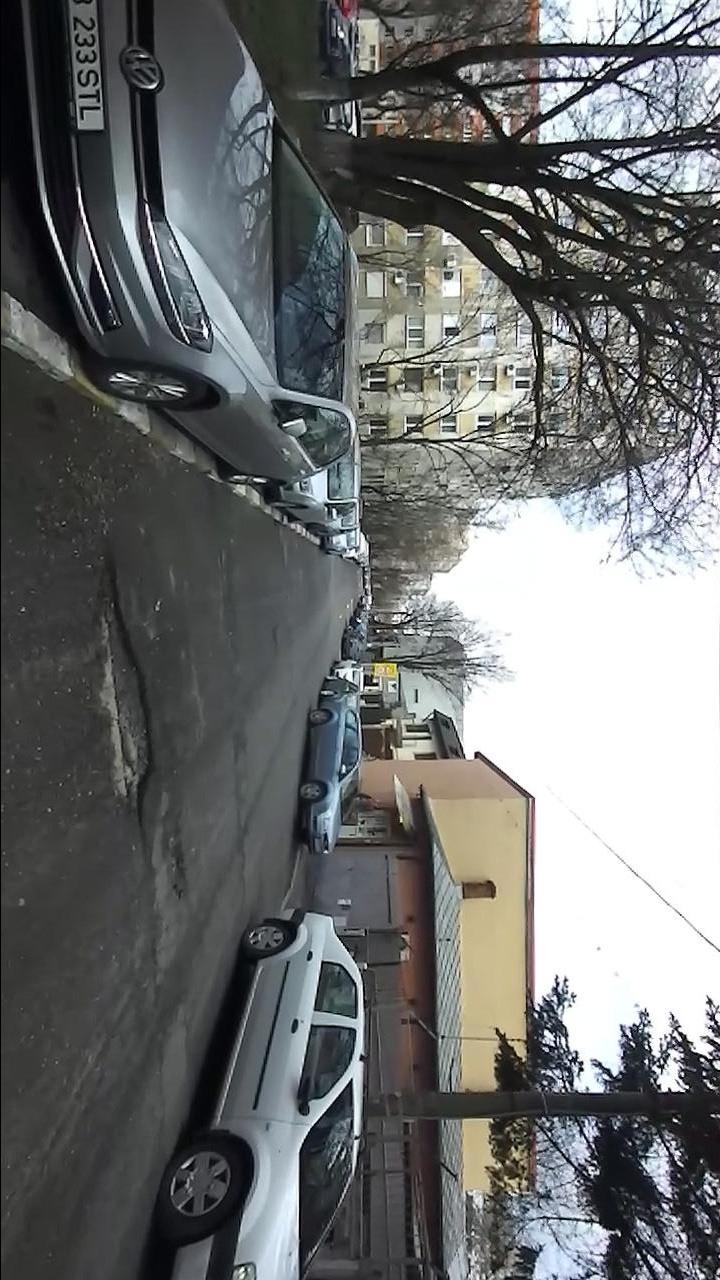pothole: (79, 554, 156, 834), (161, 805, 193, 904)
